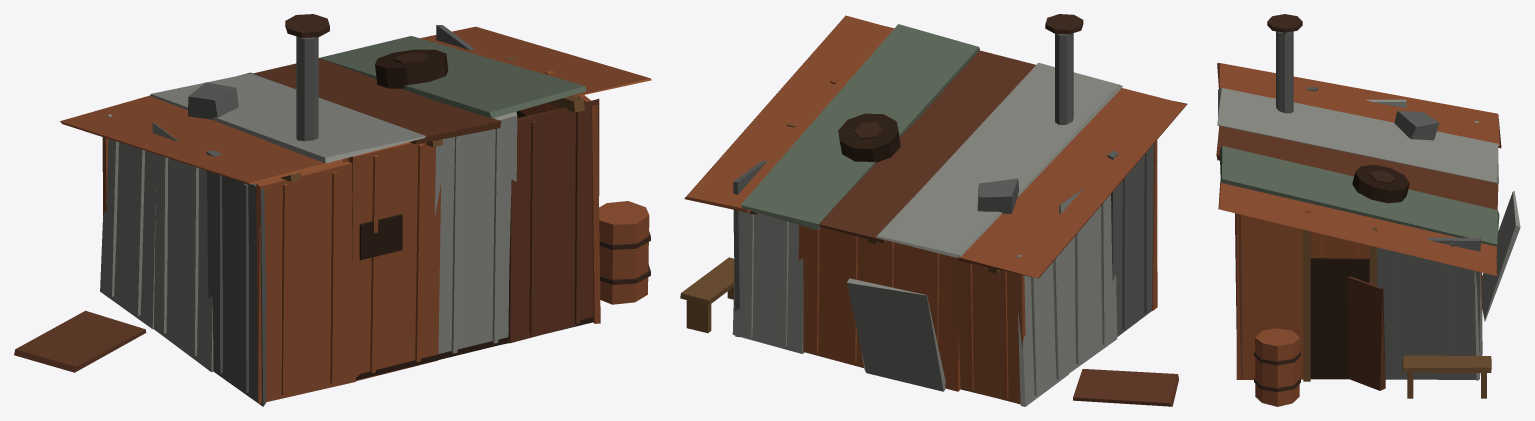
Rendered from shack.glb.
3 views of the same model, side by side, from view 1: azimuth 30°, elevation 25°; view 2: azimuth 150°, elevation 25°; view 3: azimuth 270°, elevation 25° (orthographic). The views are drawn at different scales.
Visible parts, largest first — view 1: shack; view 2: shack; view 3: shack.
Boxes of the visible parts, x1,y1,x2,y2 form: shack: [14, 14, 651, 406]; shack: [680, 14, 1187, 406]; shack: [1216, 14, 1520, 406].
Size of the model in its own units: 6.54 by 3.95 by 4.13.
